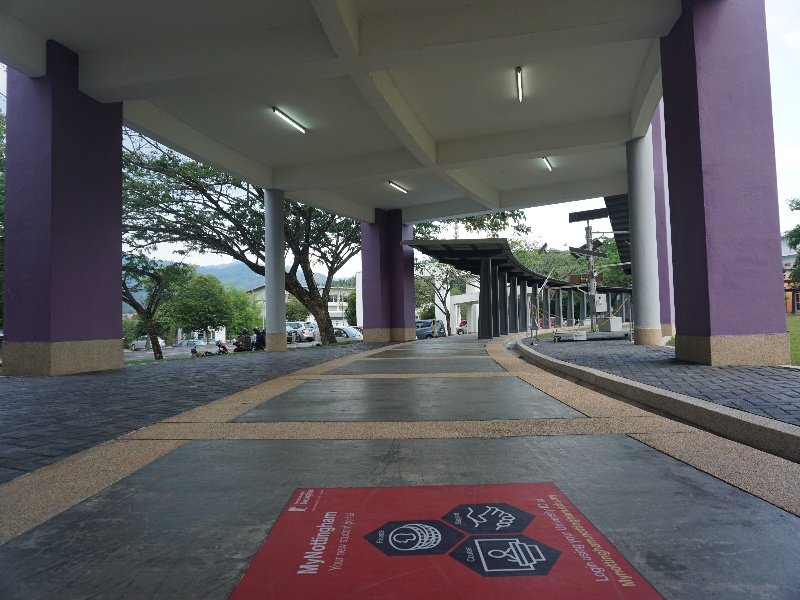Block D Pillar 4: (1, 4, 800, 509)
pillar: (666, 11, 795, 381), (9, 45, 122, 380), (624, 123, 667, 361), (353, 197, 422, 342), (262, 181, 283, 358), (479, 257, 493, 339)
